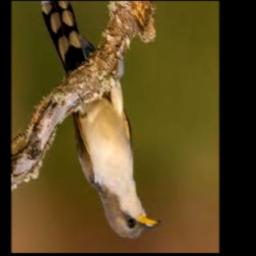Cuckoo: (40, 2, 161, 238)
